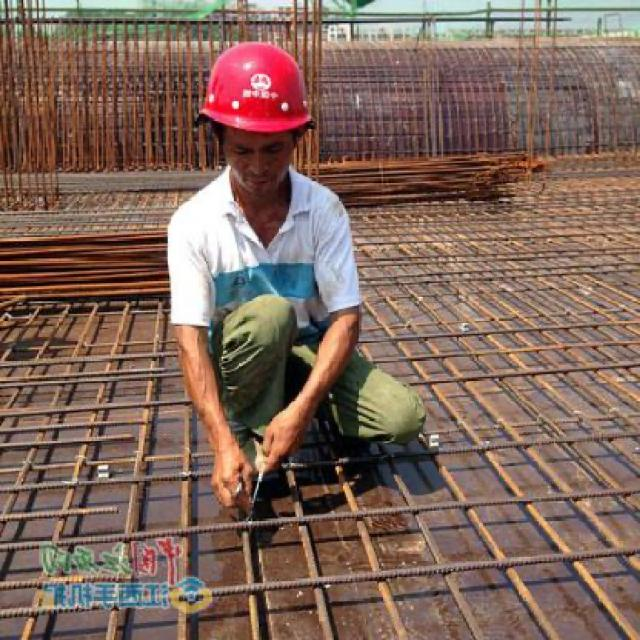safetyhelmet: (190, 24, 324, 200)
